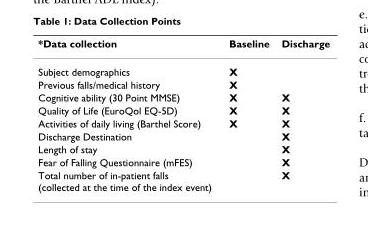table: (37, 36, 329, 192)
table column: (37, 36, 219, 192), (219, 36, 274, 192), (274, 36, 329, 192)
table column header: (37, 36, 329, 57)
table row: (37, 168, 329, 192), (37, 36, 329, 57), (37, 57, 329, 77), (37, 77, 329, 90), (37, 90, 329, 103), (37, 103, 329, 116), (37, 116, 329, 129), (37, 129, 329, 142), (37, 142, 329, 155), (37, 155, 329, 168)
